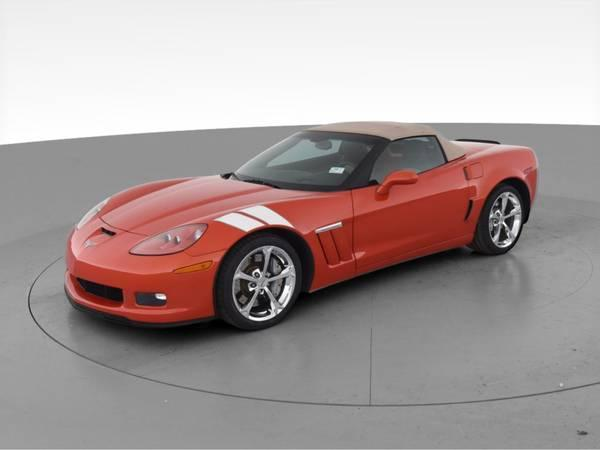Front_Bumper: (61, 216, 222, 325)
Front_Fender: (187, 190, 359, 292)
Front_Left_Door: (352, 158, 469, 277)
Front_Left_Window: (367, 135, 448, 185)
Front_Windshield: (222, 134, 372, 197)
Grille: (64, 273, 122, 318)
Hood: (102, 173, 331, 232)
Left_Headlight: (131, 226, 211, 258)
Rear_Fender: (465, 143, 537, 245)
Right_Headlight: (77, 198, 107, 232)
Roof: (303, 122, 464, 192)
Wheel: (214, 233, 303, 329), (476, 186, 526, 253)
